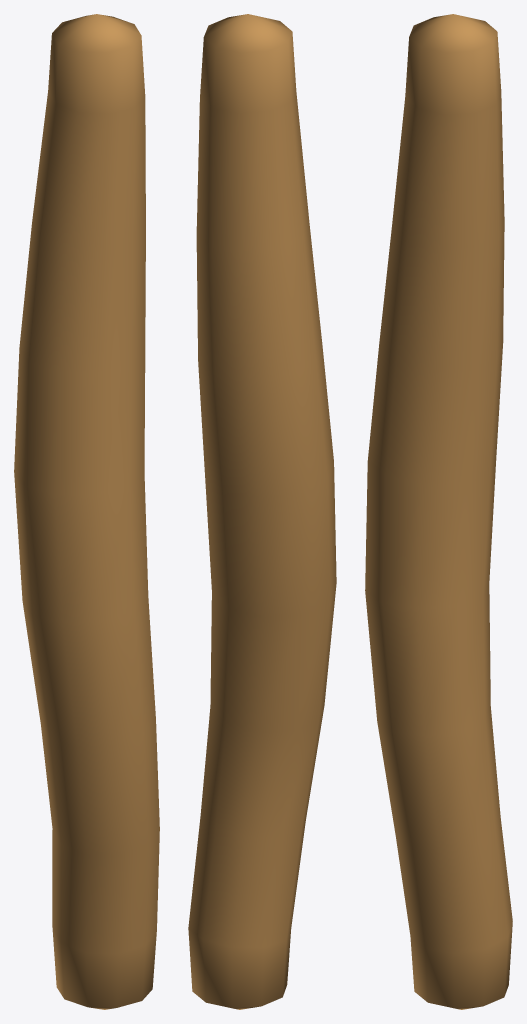
The model's file is femur_T2_left_leg.obj.
The picture shows the model from 3 angles, left to right: view 1: azimuth 30°, elevation 25°; view 2: azimuth 150°, elevation 25°; view 3: azimuth 330°, elevation 25°; orthographic projection.
Bounding box in the file's own units: 0.0124 × 0.0914 × 0.0116.
